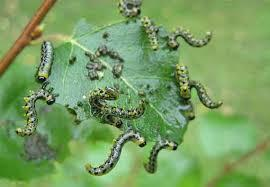Insects: (84, 128, 147, 179), (14, 85, 57, 139), (165, 20, 214, 53), (141, 136, 181, 176), (101, 100, 150, 127), (190, 76, 228, 110), (34, 36, 60, 82), (88, 84, 119, 114), (140, 13, 161, 54), (175, 62, 192, 104), (117, 0, 144, 20)
